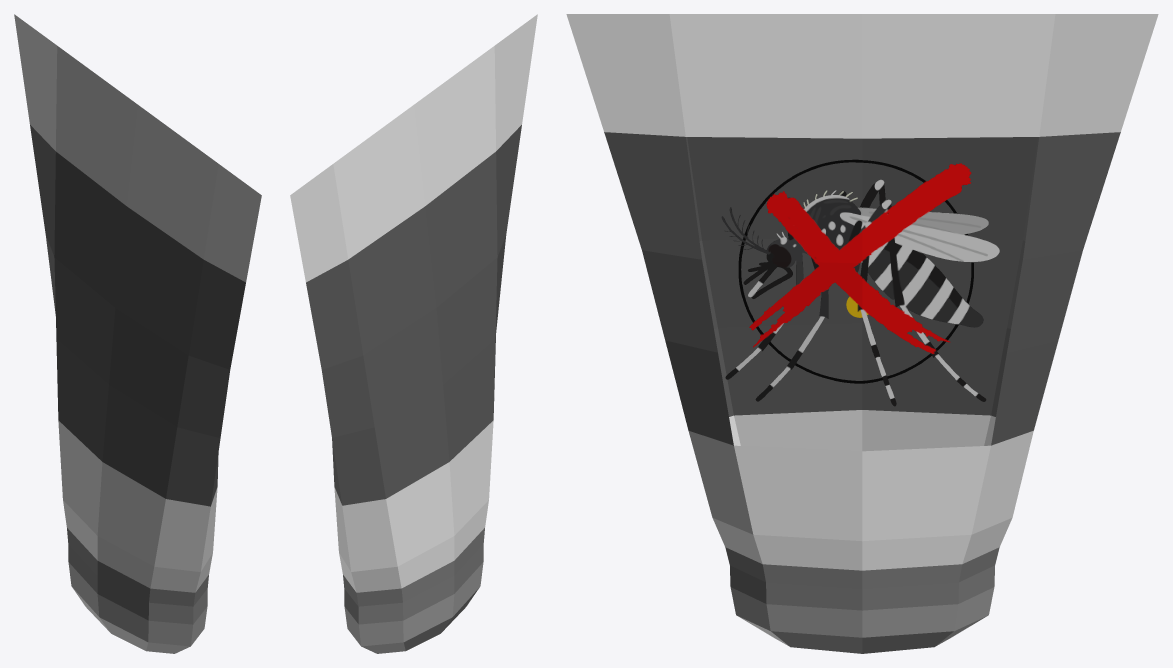
The model's file is Cream.fbx.
3 renders of one model, left to right at view 1: azimuth 30°, elevation 25°; view 2: azimuth 150°, elevation 25°; view 3: azimuth 270°, elevation 25°, orthographic. The views are drawn at different scales.
Visible parts, largest first — view 1: Cube; view 2: Cube; view 3: Cube.
Part boxes in pixels (left/top/right/bottom): Cube: left=14, top=14, right=261, bottom=653; Cube: left=290, top=14, right=537, bottom=653; Cube: left=566, top=14, right=1158, bottom=653.
Size of the model in its own units: 9.37 by 58.68 by 49.79.
5 materials, 1 textured.
